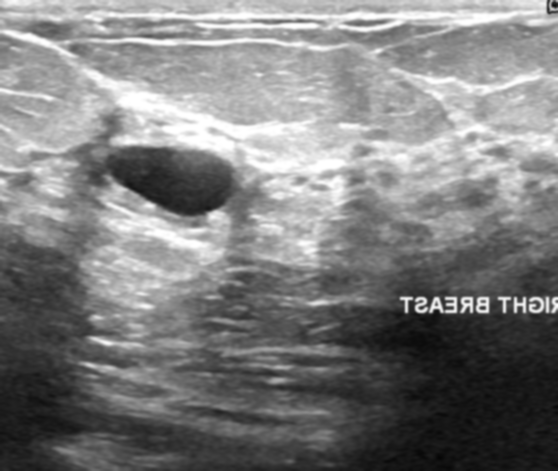Benign: (107, 137, 234, 219)
